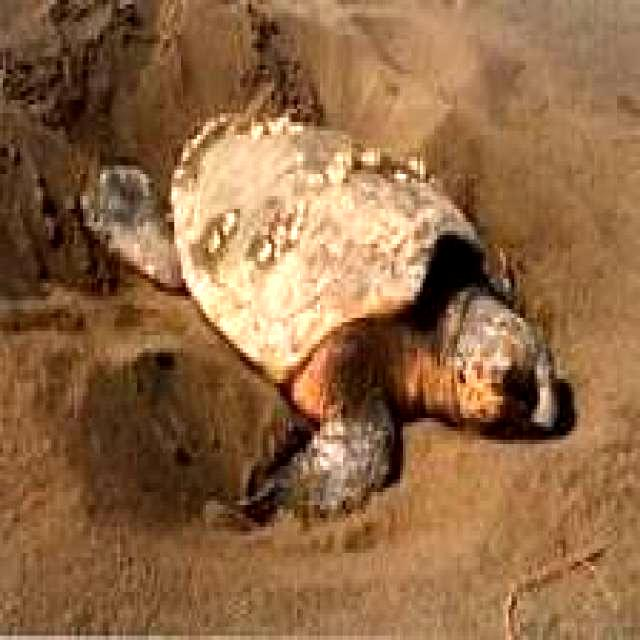Sea turtle: (88, 105, 574, 542)
